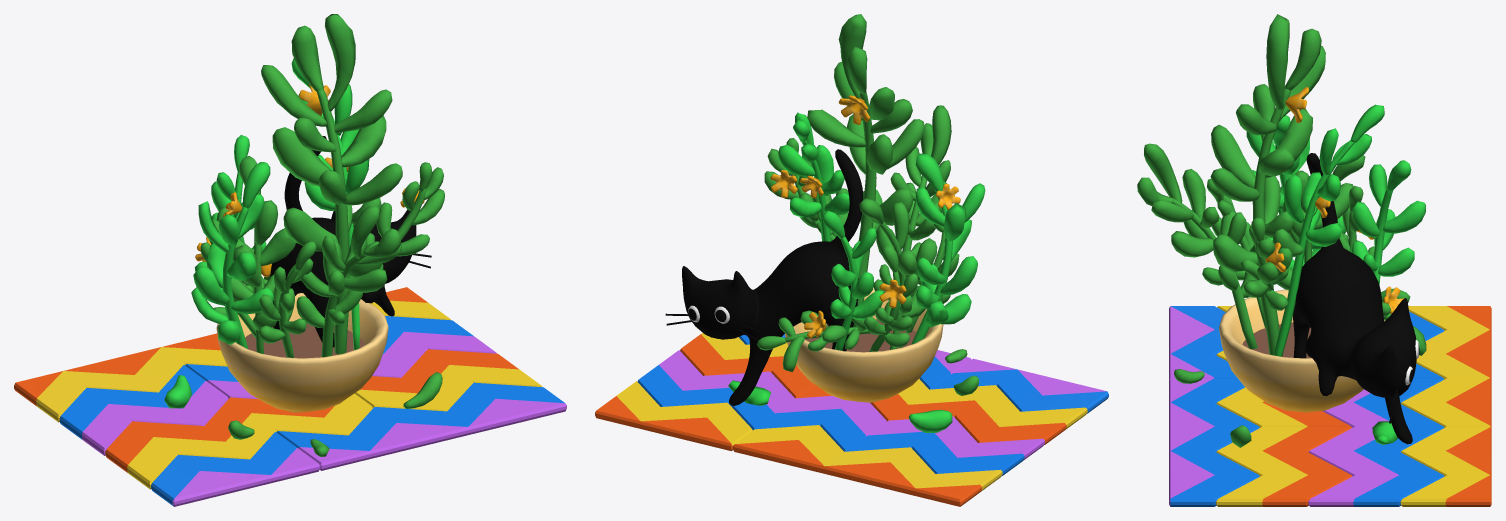
The model's file is Level_P_38.fbx.
The picture shows the model from 3 angles, left to right: view 1: azimuth 30°, elevation 25°; view 2: azimuth 150°, elevation 25°; view 3: azimuth 270°, elevation 25°; orthographic projection. The views are drawn at different scales.
Visible parts, largest first — view 1: polySurface241, Cube.401, Cube.403, Cube.406, Cube.405, Cube.402, Cube.400, Cube.399, polySurface130, polySurface190.086, polySurface190.008, polySurface190.003 (+22 smaller); view 2: polySurface130, Cube.406, Cube.399, polySurface241, Cube.403, Cube.405, Cube.404, Cube.402, Cube.400, polySurface190.086, polySurface190.007, polySurface190.003 (+19 smaller); view 3: polySurface130, Cube.399, Cube.401, Cube.406, Cube.400, polySurface241, Cube.404, Cube.402, Cube.403, polySurface190.060, polySurface190.003, polySurface190.086 (+36 smaller).
Boxes of the visible parts, x1,y1,x2,y2 form: polySurface241: (216, 293, 388, 412); Cube.401: (276, 382, 566, 470); Cube.403: (105, 393, 372, 489); Cube.406: (14, 333, 227, 422); Cube.405: (59, 365, 228, 455); Cube.402: (151, 431, 319, 506); Cube.400: (355, 349, 542, 411); Cube.399: (185, 316, 496, 399); polySurface130: (270, 136, 431, 347); polySurface190.086: (317, 89, 349, 354); polySurface190.008: (272, 127, 331, 186); polySurface190.003: (325, 14, 355, 111); polySurface130: (665, 149, 863, 405); Cube.406: (733, 425, 1002, 506); Cube.399: (637, 350, 886, 451); polySurface241: (785, 288, 943, 402); Cube.403: (798, 379, 1087, 444); Cube.405: (847, 416, 1044, 475); Cube.404: (595, 381, 752, 450); Cube.402: (932, 358, 1108, 413); Cube.400: (680, 332, 814, 398); polySurface190.086: (853, 92, 876, 326); polySurface190.007: (807, 109, 865, 147); polySurface190.003: (838, 14, 866, 98); polySurface130: (1293, 153, 1416, 444); Cube.399: (1308, 378, 1444, 506); Cube.401: (1169, 378, 1259, 506); Cube.406: (1401, 306, 1491, 428); Cube.400: (1216, 427, 1351, 506); polySurface241: (1219, 289, 1385, 412); Cube.404: (1400, 427, 1491, 506); Cube.402: (1169, 306, 1237, 380); Cube.403: (1216, 306, 1351, 428); polySurface190.060: (1274, 139, 1354, 356); polySurface190.003: (1266, 14, 1289, 110); polySurface190.086: (1252, 87, 1290, 355).
Bounding box in the file's own units: 24.8 × 24.14 × 19.17.
